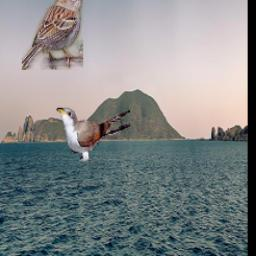Cuckoo: (57, 107, 131, 161)
Sparrow: (23, 0, 84, 70)
